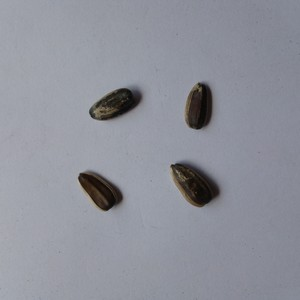girasol: (168, 161, 215, 209), (74, 169, 118, 212), (87, 83, 136, 121), (184, 79, 215, 130)
